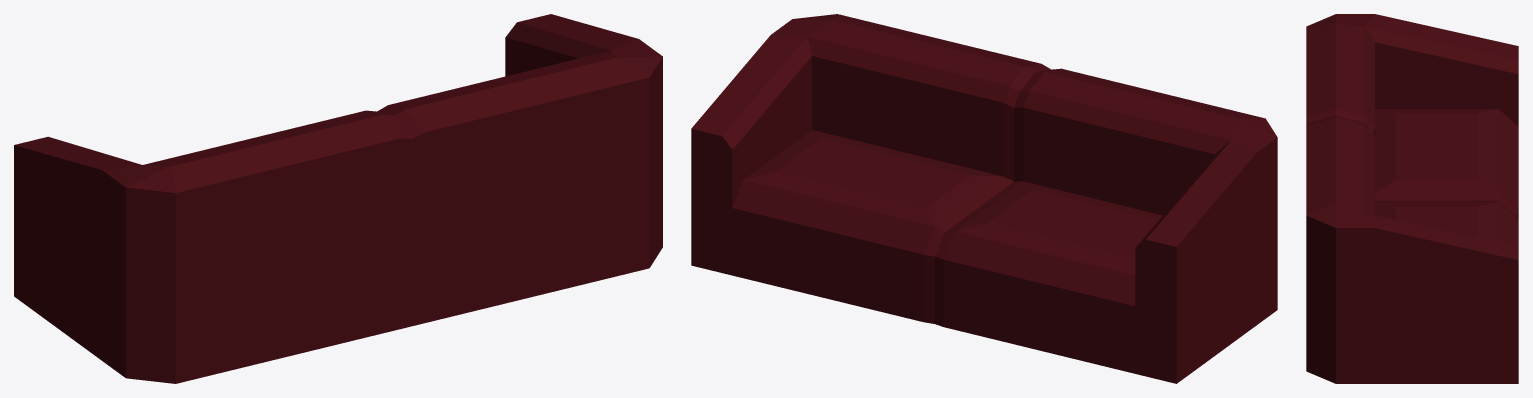
The model's file is Sofa.fbx.
3 renders of one model, left to right at view 1: azimuth 30°, elevation 25°; view 2: azimuth 150°, elevation 25°; view 3: azimuth 270°, elevation 25°, orthographic. The views are drawn at different scales.
Parts seen in each view (by area): view 1: Sofa; view 2: Sofa; view 3: Sofa.
Boxes of the visible parts, x1,y1,x2,y2 form: Sofa: [14, 14, 662, 383]; Sofa: [691, 14, 1277, 383]; Sofa: [1306, 14, 1518, 383].
Bounding box in the file's own units: 300 × 107 × 126.
